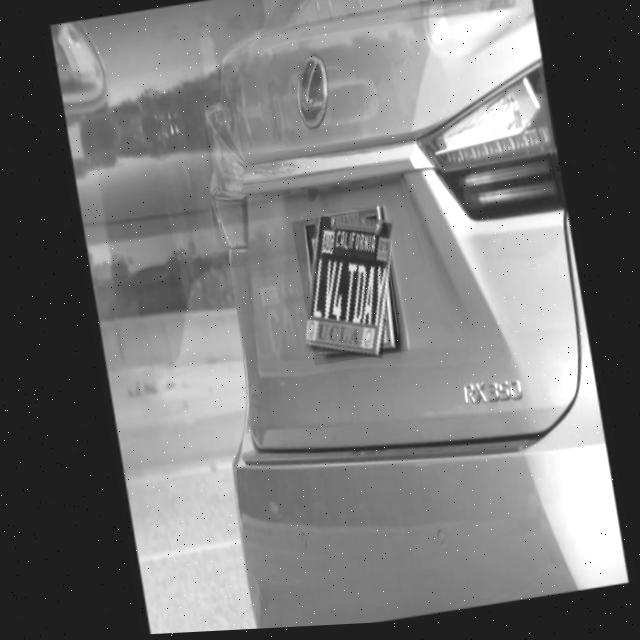LicensePlate: (288, 210, 404, 369)
